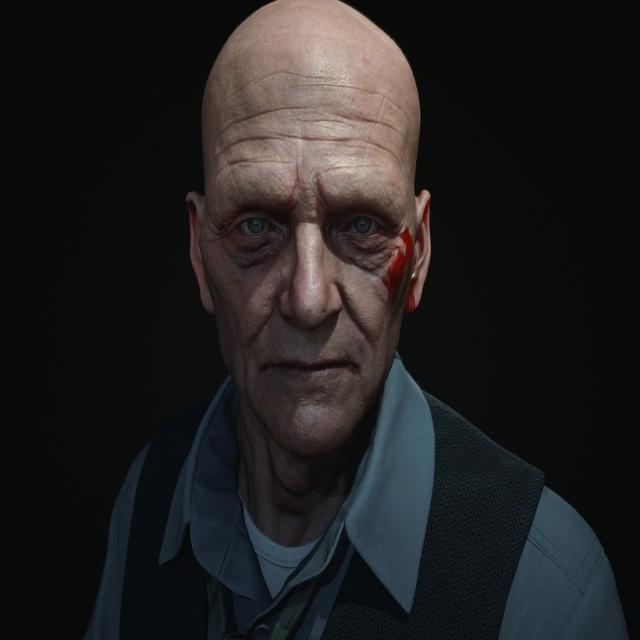earlobe: (404, 276, 423, 314), (200, 284, 214, 315)
eye: (338, 214, 382, 238), (236, 217, 278, 238)
nose: (280, 313, 341, 351)
wholeear: (186, 191, 215, 315), (405, 190, 432, 313)
